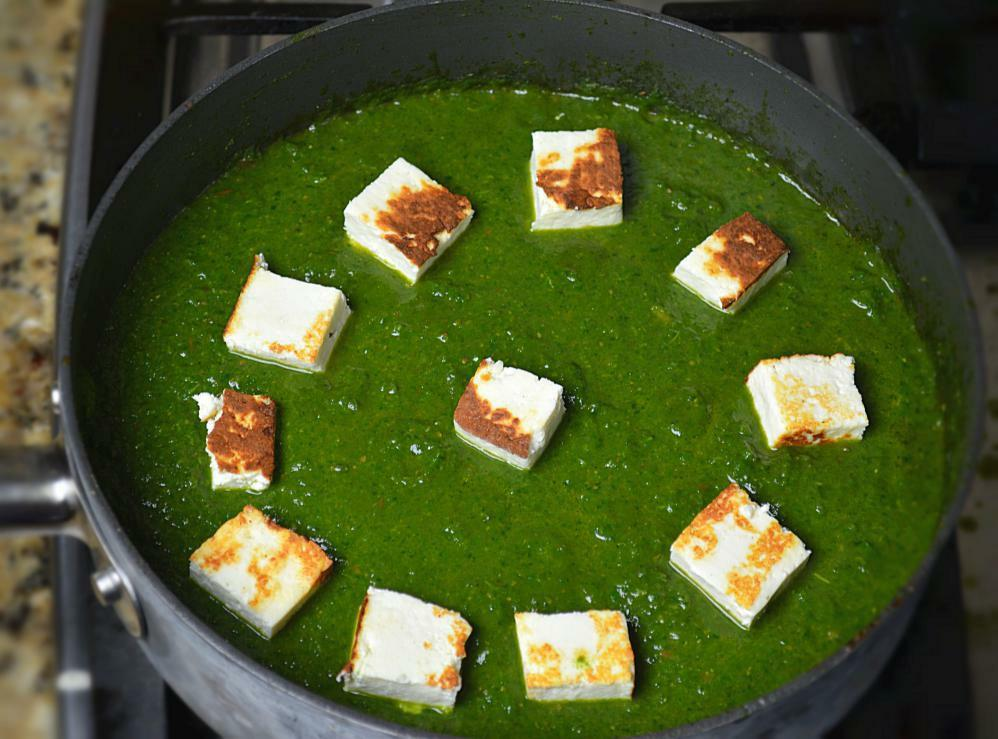PalakPaneer: (93, 87, 951, 739)
